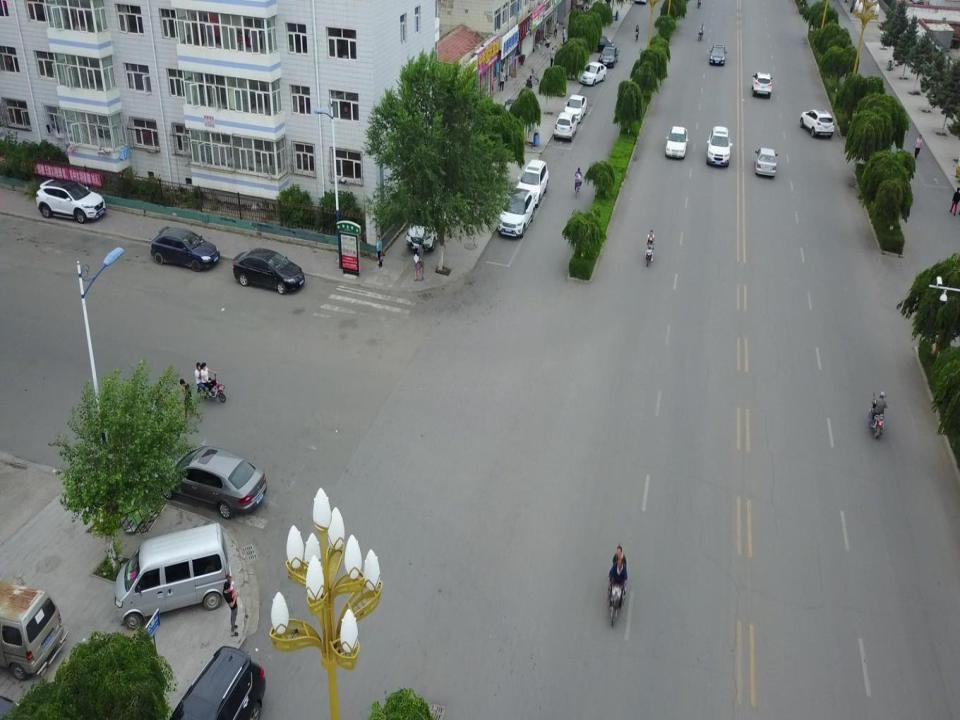car: (154, 446, 268, 517), (34, 178, 109, 224), (235, 246, 306, 294), (152, 228, 222, 272), (497, 186, 535, 240), (408, 200, 439, 248), (520, 157, 549, 207), (799, 108, 836, 138), (707, 123, 732, 166), (664, 123, 691, 157), (554, 113, 575, 144), (753, 149, 775, 178), (582, 58, 608, 80), (752, 69, 772, 96), (565, 93, 585, 119), (711, 42, 726, 67), (602, 42, 618, 63)
van: (114, 523, 232, 625), (168, 646, 267, 720), (3, 578, 69, 680)
